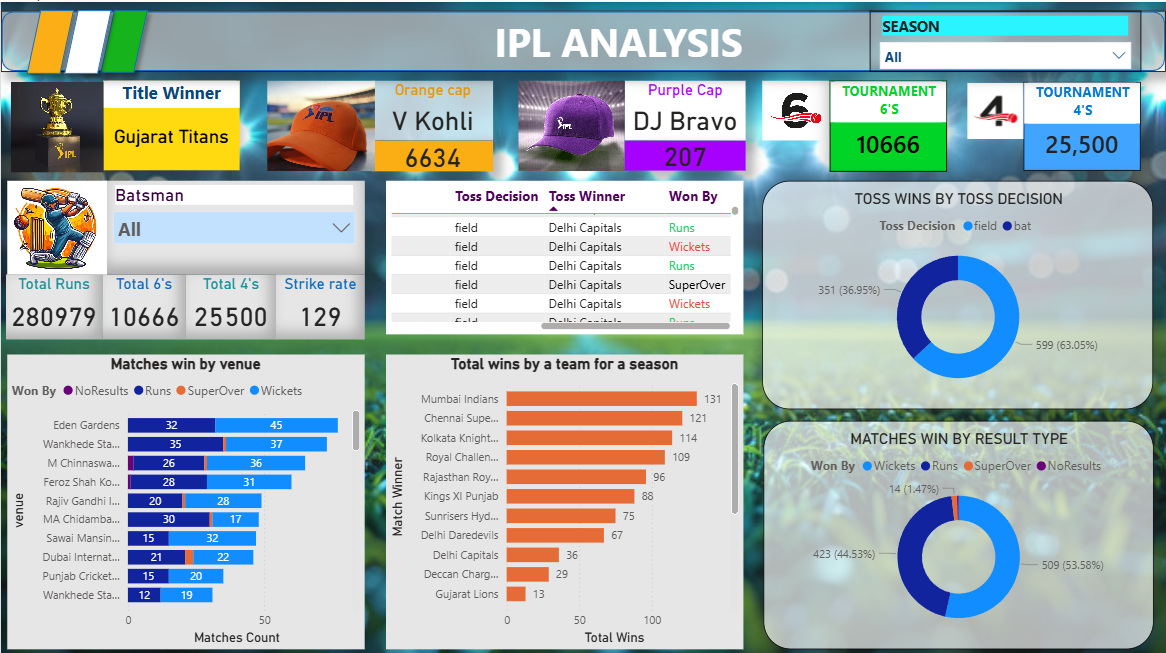

The page's visual inventory and layout, read from the dashboard file:
{"tool":"powerbi","page":{"name":"Page 1","canvas":[1280,720],"ordinal":0},"visuals":[{"type":"card","title":"Title Winner","fields":{"Values":["ipl_matches_2008_2022.Title Winner"]},"box":[112.2,87,149.6,98.8],"z":0},{"type":"card","title":"Orange cap","fields":{"Values":["ipl_matches_2008_2022.Orange Cap Player"]},"box":[407.7,86.7,133,65.8],"z":1000},{"type":"card","fields":{"Values":["ipl_matches_2008_2022.Orange Cap Runs"]},"box":[407.7,152.4,133,33.6],"z":2000},{"type":"image","box":[292.6,86.5,118.1,98.9],"z":3000},{"type":"image","box":[11,87.9,101.7,98.9],"z":4000},{"type":"card","title":"Purple Cap","fields":{"Values":["ipl_matches_2008_2022.Purple Cap Player"]},"box":[685.4,86.7,133,65.8],"z":5000},{"type":"image","box":[568.4,86.7,116.9,99.4],"z":6000},{"type":"card","fields":{"Values":["ipl_matches_2008_2022.Purple Cap Wickets"]},"box":[685,152.9,133.1,32.9],"z":7000},{"type":"image","box":[836.8,87,74.1,65.9],"z":8000},{"type":"card","title":"TOURNAMENT 6''S","fields":{"Values":["ipl_matches_2008_2022.Total 6s"]},"box":[910.9,87,129,100.2],"z":9000},{"type":"card","title":"TOURNAMENT 4''S","fields":{"Values":["ipl_matches_2008_2022.Total 4s"]},"box":[1123.6,88.4,129,97.4],"z":10000},{"type":"image","box":[1061.8,87,61.7,65.9],"z":11000},{"type":"barChart","title":"Matches win by venue","fields":{"Y":["ipl_matches_2008_2022.Matches Count"],"Category":["ipl_matches_2008_2022.venue"],"Series":["ipl_matches_2008_2022.Won By"]},"box":[6.9,387,392.5,323.8],"z":12000},{"type":"barChart","title":"Total wins by a team for a season","fields":{"Y":["ipl_matches_2008_2022.Total Wins"],"Category":["ipl_matches_2008_2022.Match Winner"]},"box":[422.6,387,392.5,323.8],"z":13000},{"type":"donutChart","title":"TOSS WINS BY TOSS DECISION","fields":{"Category":["ipl_matches_2008_2022.Toss Decision"],"Y":["ipl_matches_2008_2022.Toss Wins"]},"box":[836.6,196.4,430,251.4],"z":14000},{"type":"donutChart","title":"MATCHES WIN BY RESULT TYPE","fields":{"Y":["ipl_matches_2008_2022.Result Count"],"Category":["ipl_matches_2008_2022.Won By"]},"box":[838,460.2,428.6,251.4],"z":15000},{"type":"card","title":"Total Runs","fields":{"Values":["ipl_matches_2008_2022.Batsman Runs"]},"box":[5.5,299.5,105.8,71.4],"z":16000},{"type":"card","title":"Total 6''s","fields":{"Values":["ipl_matches_2008_2022.Total 6s"]},"box":[111.3,299.5,92,71.4],"z":17000},{"type":"card","title":"Total 4''s","fields":{"Values":["ipl_matches_2008_2022.Total 4s"]},"box":[203.3,299.5,98.9,71.4],"z":18000},{"type":"slicer","fields":{"Values":["ipl_ball_by_ball_2008_2022.Batsman"]},"box":[112.6,196.4,287.1,103],"z":19000},{"type":"card","title":"Strike rate ","fields":{"Values":["ipl_matches_2008_2022.Strike Rate"]},"box":[302.2,299.5,97.5,71.4],"z":20000},{"type":"tableEx","fields":{"Values":["Match Summary Table.Team 1","Match Summary Table.Team 2","Match Summary Table.Toss Decision","Match Summary Table.Toss Winner","Match Summary Table.Won By"]},"box":[423.1,196.4,392.9,174.5],"z":21000},{"type":"shape","box":[0,9.6,1280.3,67.3],"z":22000},{"type":"textbox","box":[523.4,9.6,310.5,67.3],"z":23000},{"type":"shape","box":[19.2,0,70.1,87.9],"z":24000},{"type":"shape","box":[100.3,0,70.1,86.5],"z":25000},{"type":"shape","box":[60.4,0,70.1,87.9],"z":26000},{"type":"image","box":[6.9,196.4,109.9,103],"z":27000},{"type":"slicer","fields":{"Values":["ipl_matches_2008_2022.season"]},"box":[954.7,9.6,298.1,67.3],"z":28000}]}

Visuals, with their boxes in screenshot pixels (x1, y1, x2, y2), scaled from the page's 1280x720 canvas onto the 1166x653 screenshot:
"Title Winner" card: <bbox>102, 79, 238, 169</bbox>
"Orange cap" card: <bbox>371, 79, 493, 138</bbox>
card - ipl_matches_2008_2022.Orange Cap Runs: <bbox>371, 138, 493, 169</bbox>
image: <bbox>267, 78, 374, 168</bbox>
image: <bbox>10, 80, 103, 169</bbox>
"Purple Cap" card: <bbox>624, 79, 746, 138</bbox>
image: <bbox>518, 79, 624, 169</bbox>
card - ipl_matches_2008_2022.Purple Cap Wickets: <bbox>624, 139, 745, 169</bbox>
image: <bbox>762, 79, 830, 139</bbox>
"TOURNAMENT 6''S" card: <bbox>830, 79, 947, 170</bbox>
"TOURNAMENT 4''S" card: <bbox>1024, 80, 1141, 169</bbox>
image: <bbox>967, 79, 1023, 139</bbox>
"Matches win by venue" barChart: <bbox>6, 351, 364, 645</bbox>
"Total wins by a team for a season" barChart: <bbox>385, 351, 743, 645</bbox>
"TOSS WINS BY TOSS DECISION" donutChart: <bbox>762, 178, 1154, 406</bbox>
"MATCHES WIN BY RESULT TYPE" donutChart: <bbox>763, 417, 1154, 645</bbox>
"Total Runs" card: <bbox>5, 272, 101, 336</bbox>
"Total 6''s" card: <bbox>101, 272, 185, 336</bbox>
"Total 4''s" card: <bbox>185, 272, 275, 336</bbox>
slicer - ipl_ball_by_ball_2008_2022.Batsman: <bbox>103, 178, 364, 272</bbox>
"Strike rate " card: <bbox>275, 272, 364, 336</bbox>
tableEx - Match Summary Table.Team 1 x Match Summary Table.Team 2: <bbox>385, 178, 743, 336</bbox>
shape: <bbox>0, 9, 1165, 70</bbox>
textbox: <bbox>477, 9, 760, 70</bbox>
shape: <bbox>17, 0, 81, 80</bbox>
shape: <bbox>91, 0, 155, 78</bbox>
shape: <bbox>55, 0, 119, 80</bbox>
image: <bbox>6, 178, 106, 272</bbox>
slicer - ipl_matches_2008_2022.season: <bbox>870, 9, 1141, 70</bbox>
